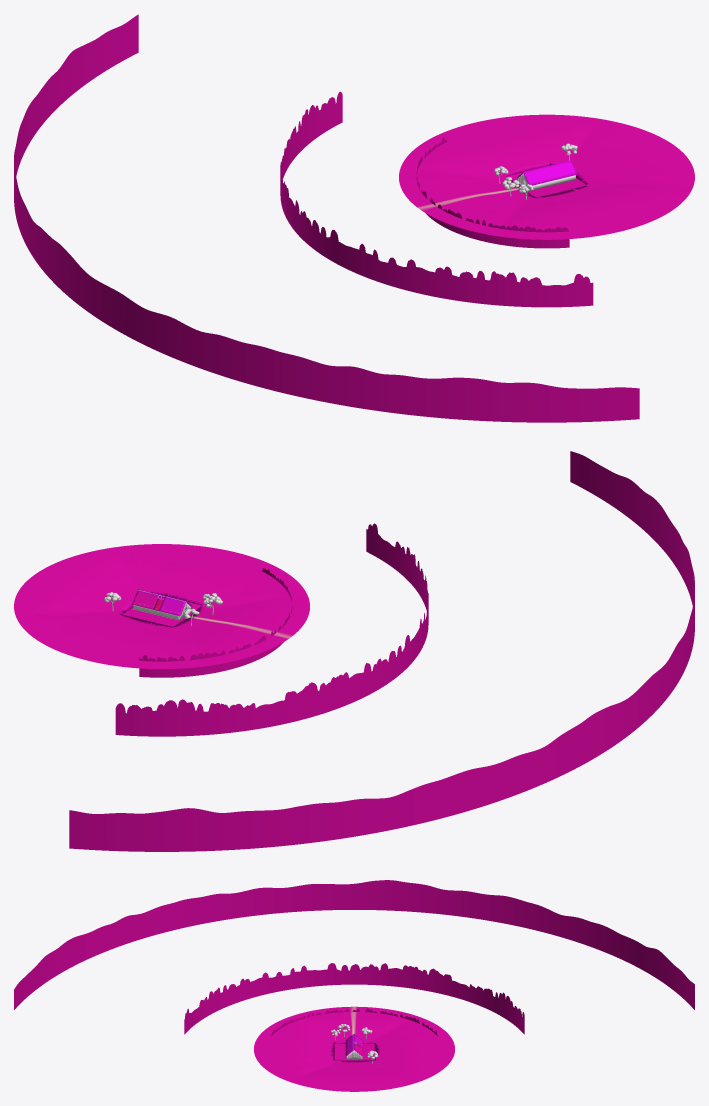
File: court_set_longhouse.glb
The picture shows the model from 3 angles, top to bottom: view 1: azimuth 30°, elevation 25°; view 2: azimuth 150°, elevation 25°; view 3: azimuth 270°, elevation 25°; orthographic projection. The views are drawn at different scales.
Parts seen in each view (by area): view 1: Far2, Ground, Far1, Far0, ShadowCaster; view 2: Far2, Ground, Far1, Far0, StaticPlain, StaticInked; view 3: Far2, Ground, Far1, Far0, StaticInked.
Part boxes in pixels (left/top/right/bottom): Far2: left=14, top=14, right=639, bottom=422; Ground: left=399, top=114, right=694, bottom=239; Far1: left=280, top=91, right=593, bottom=307; Far0: left=416, top=137, right=569, bottom=248; ShadowCaster: left=523, top=160, right=577, bottom=190; Far2: left=69, top=451, right=694, bottom=851; Ground: left=14, top=544, right=309, bottom=668; Far1: left=115, top=523, right=428, bottom=736; Far0: left=139, top=568, right=292, bottom=677; StaticPlain: left=131, top=590, right=185, bottom=620; StaticInked: left=104, top=590, right=222, bottom=625; Far2: left=14, top=880, right=694, bottom=1009; Ground: left=254, top=1006, right=454, bottom=1091; Far1: left=184, top=963, right=524, bottom=1034; Far0: left=271, top=1008, right=437, bottom=1035; StaticInked: left=331, top=1024, right=378, bottom=1063.
Bounding box in the file's own units: 230 × 16.69 × 338.
